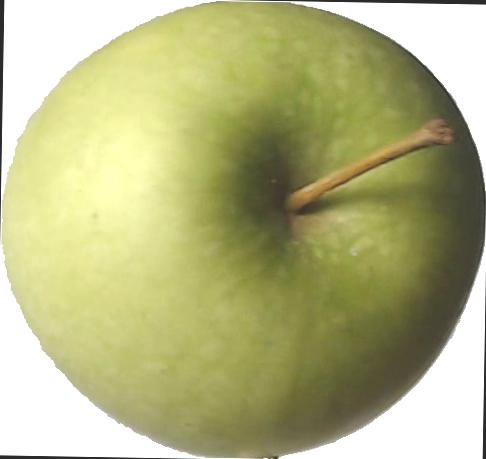Apple Unripe: (0, 0, 480, 459)
